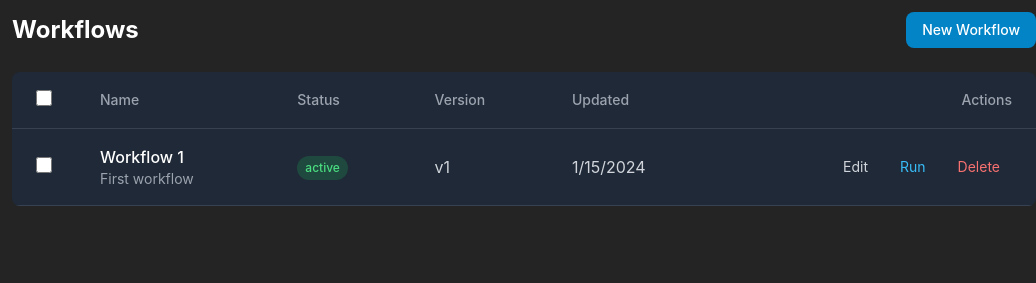
Test: WorkflowList Integration › Execute workflow › should execute workflow when run button clicked
Step 1. Click the button "Run" → (913, 167), box [888, 153, 938, 181]
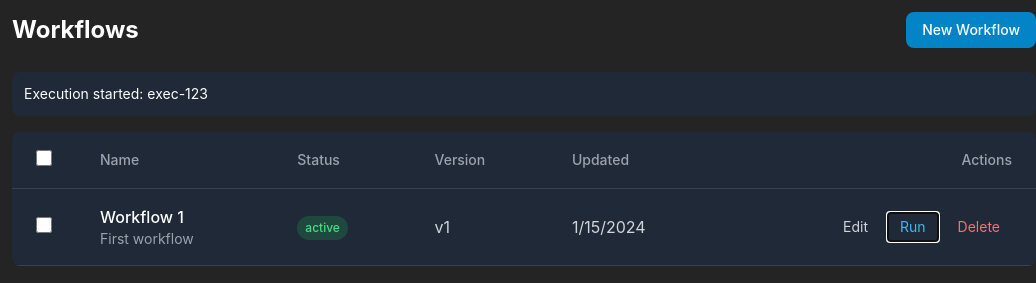
Now the text "Execution started: exec-123" is shown, box [12, 72, 1035, 116]
